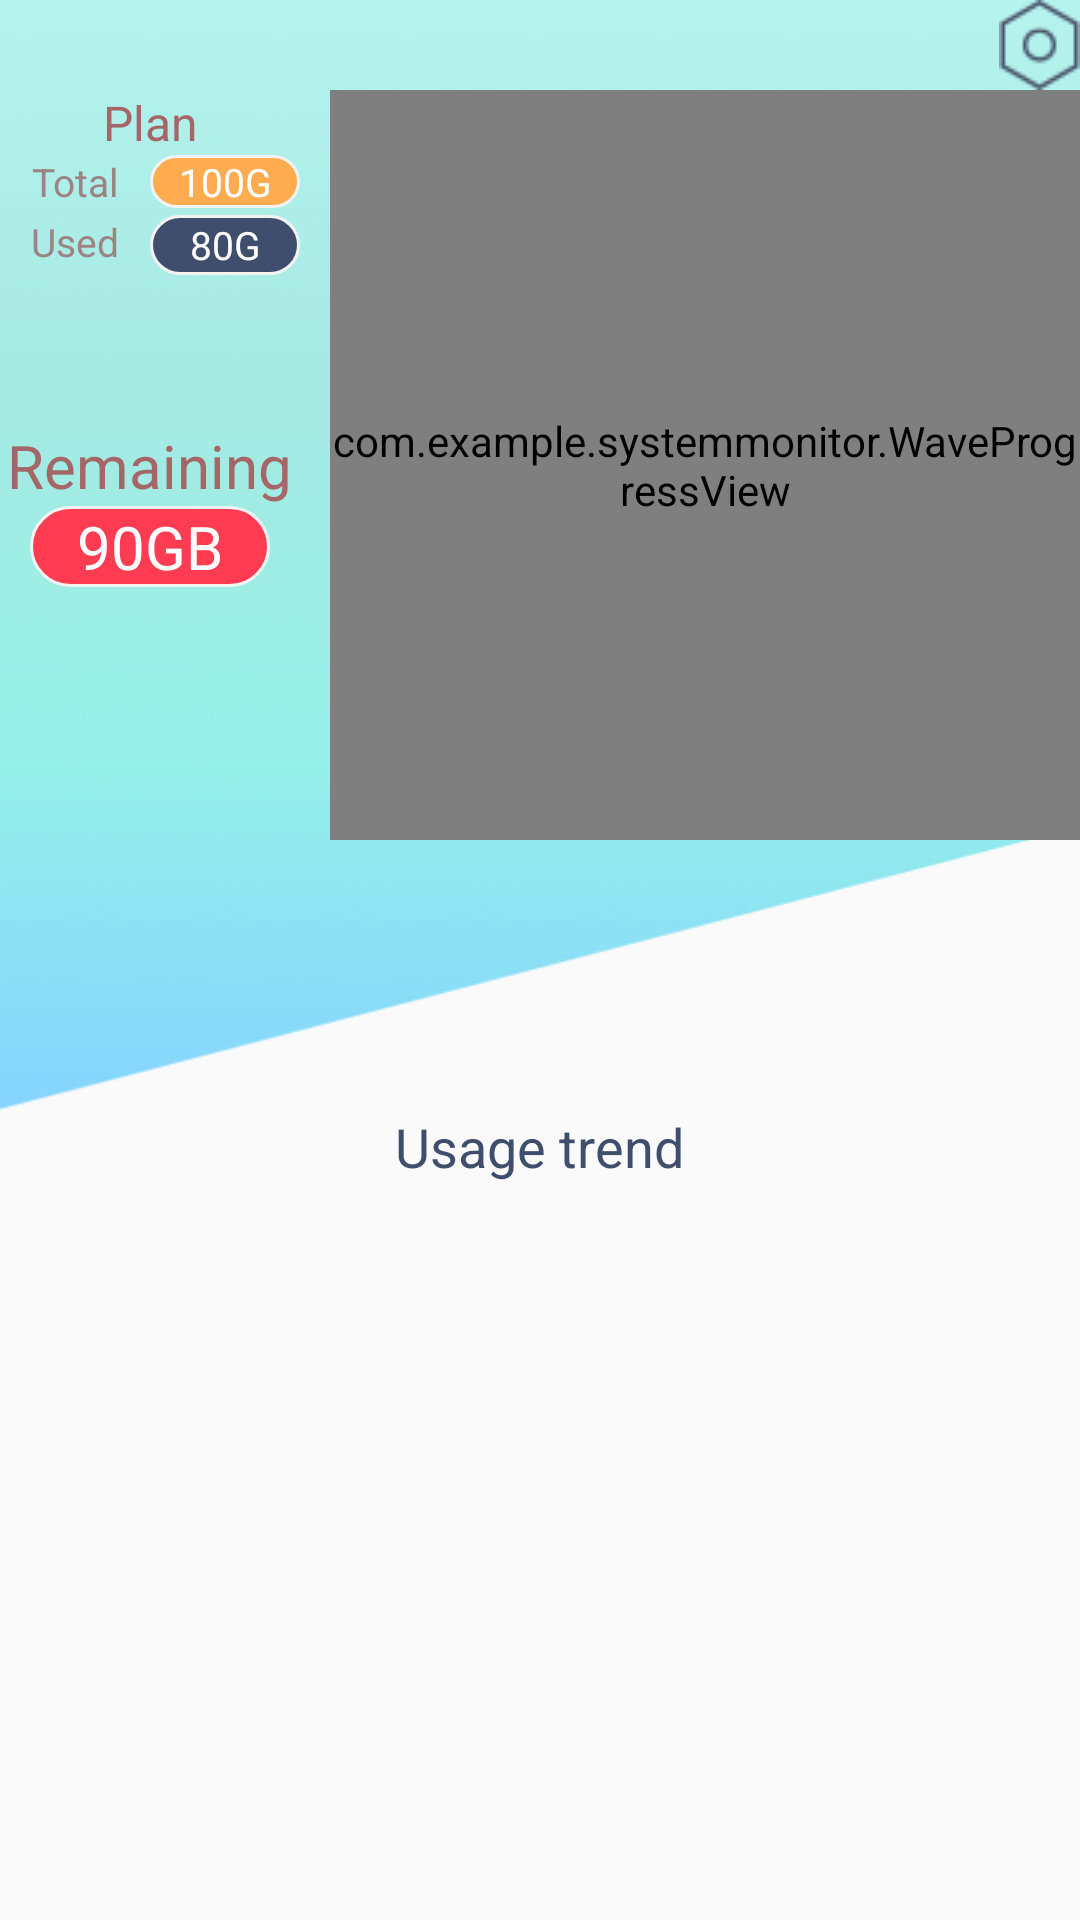

Named icons in this screenshot (1080*1920) and their centers, (x,y):
settings: (1039,45)
